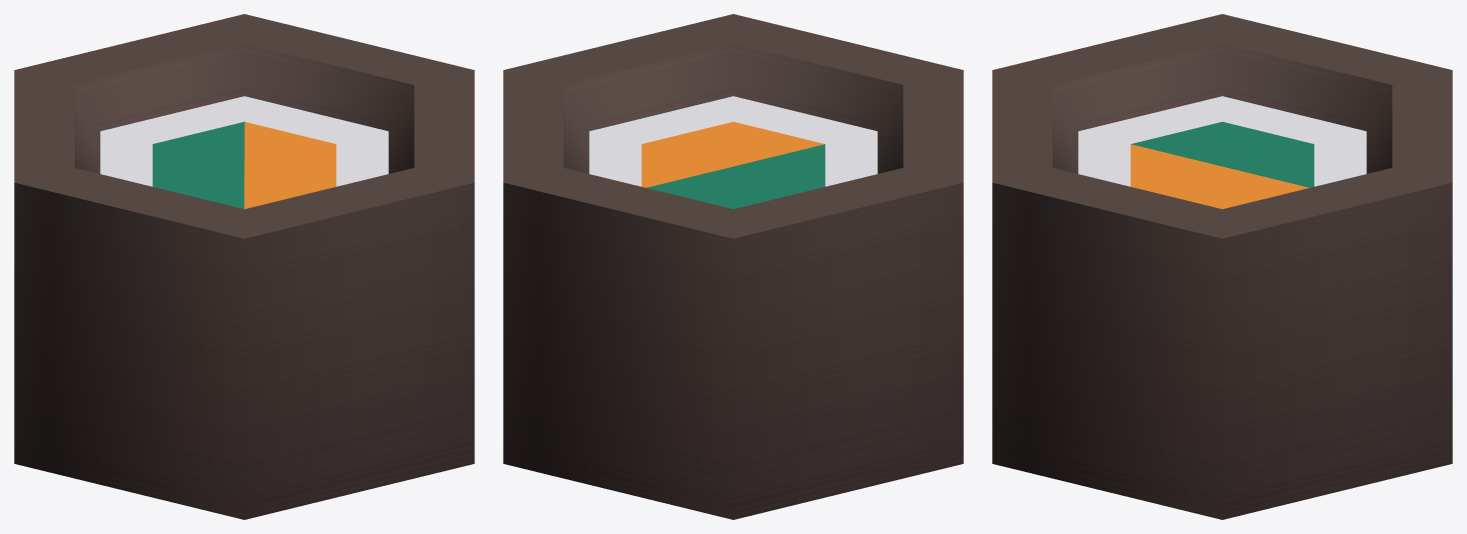
The model's file is food-maki-vegetable.glb.
The picture shows the model from 3 angles, left to right: view 1: azimuth 30°, elevation 25°; view 2: azimuth 150°, elevation 25°; view 3: azimuth 270°, elevation 25°; orthographic projection.
Visible parts, largest first — view 1: maki-vegetable; view 2: maki-vegetable; view 3: maki-vegetable.
Part boxes in pixels (left/top/right/bottom): maki-vegetable: left=14, top=14, right=474, bottom=519; maki-vegetable: left=503, top=14, right=963, bottom=519; maki-vegetable: left=992, top=14, right=1452, bottom=519.
Bounding box in the file's own units: 0.12 × 0.07 × 0.1039.
1 material, 1 textured.
